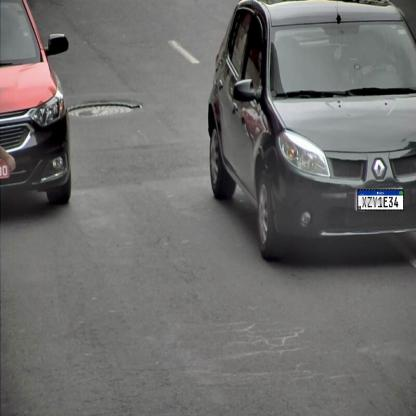PlacaM: (357, 189, 404, 211)
